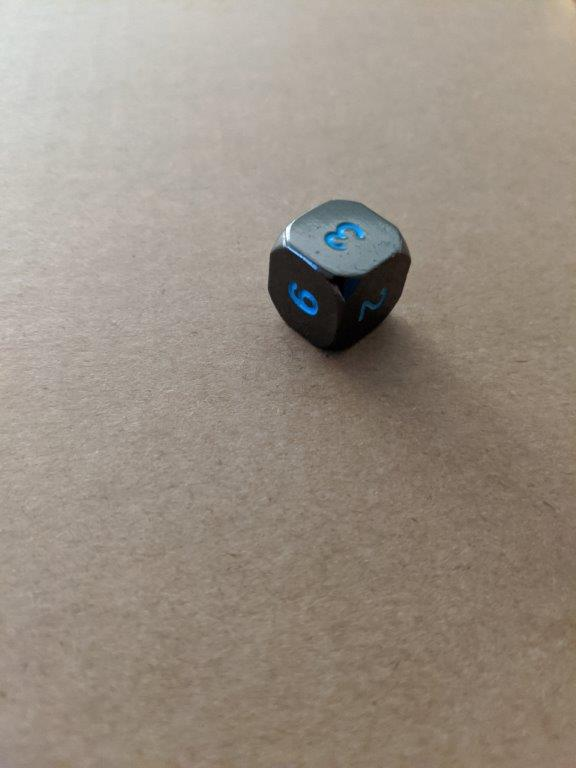d6-3: (267, 199, 411, 354)
